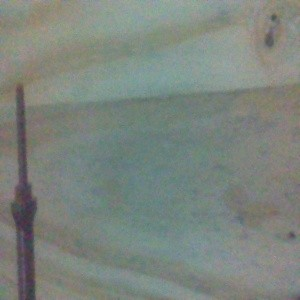obeng: (9, 82, 37, 300)
